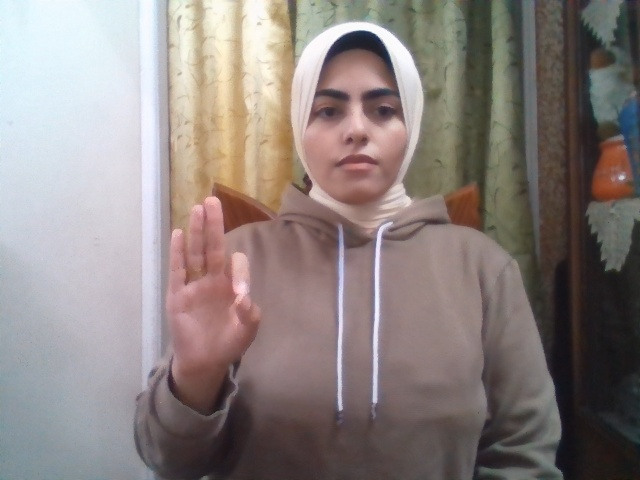F: (166, 196, 260, 378)
